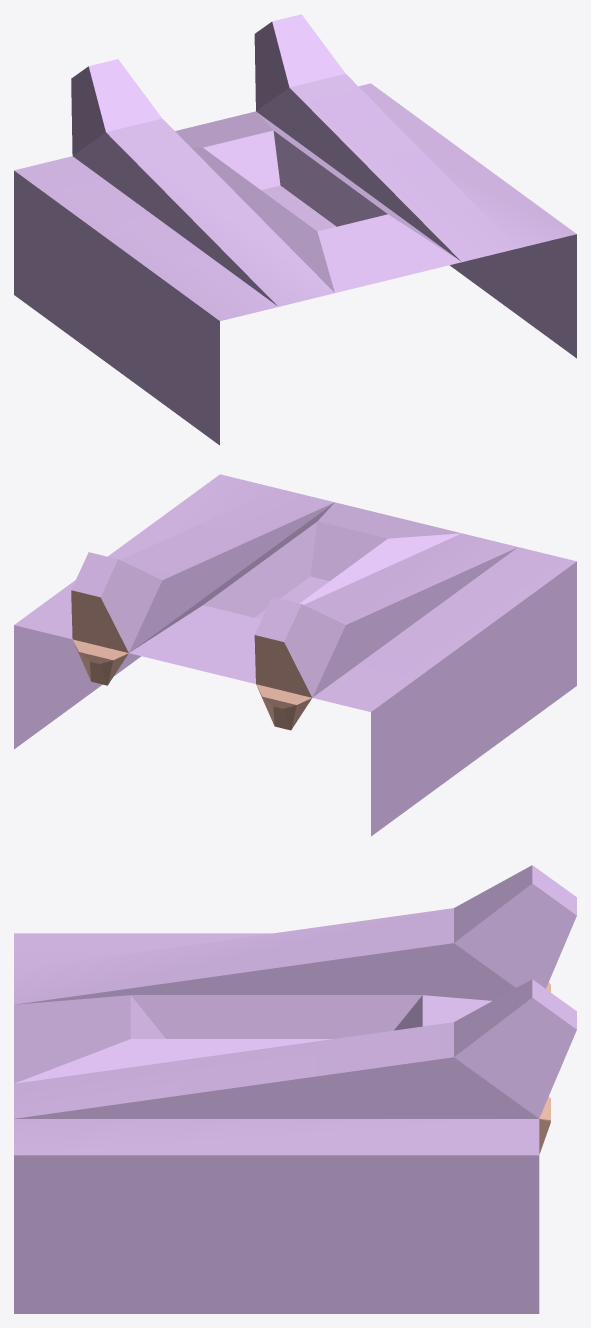
The picture shows the model from 3 angles, top to bottom: view 1: azimuth 30°, elevation 25°; view 2: azimuth 150°, elevation 25°; view 3: azimuth 270°, elevation 25°; orthographic projection. The views are drawn at different scales.
Parts seen in each view (by area): view 1: Object07; view 2: Object07; view 3: Object07.
Boxes of the visible parts, box(x1,y1,x2,y2) form: Object07: box(14, 14, 576, 445); Object07: box(14, 474, 576, 836); Object07: box(14, 865, 576, 1313).
Size of the model in its own units: 30000 by 17117 by 32156.
